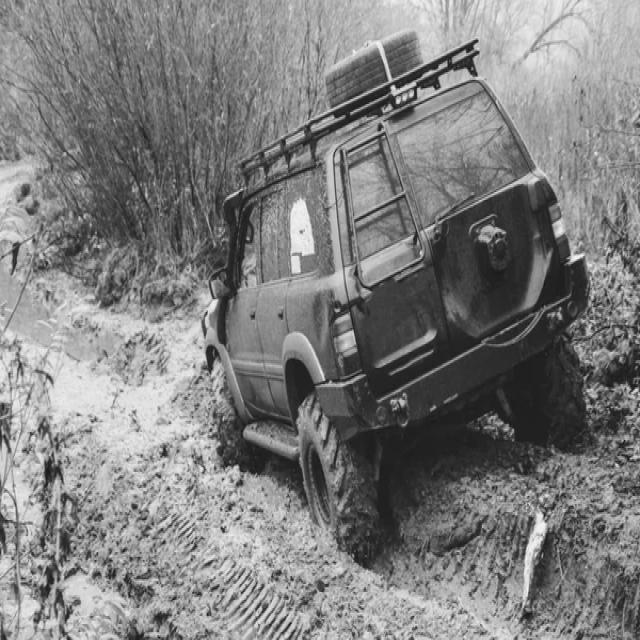Car: (202, 39, 591, 558)
